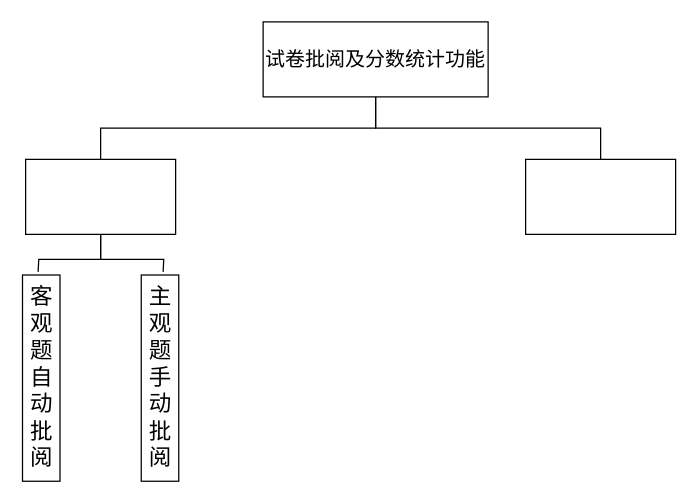
This 698x504 diagram has some shape labels left out. The centre of each missing label's shape, as x and y in pixels:
"分数统计" belongs at [600,196].
"试卷批阅" belongs at [100,196].
